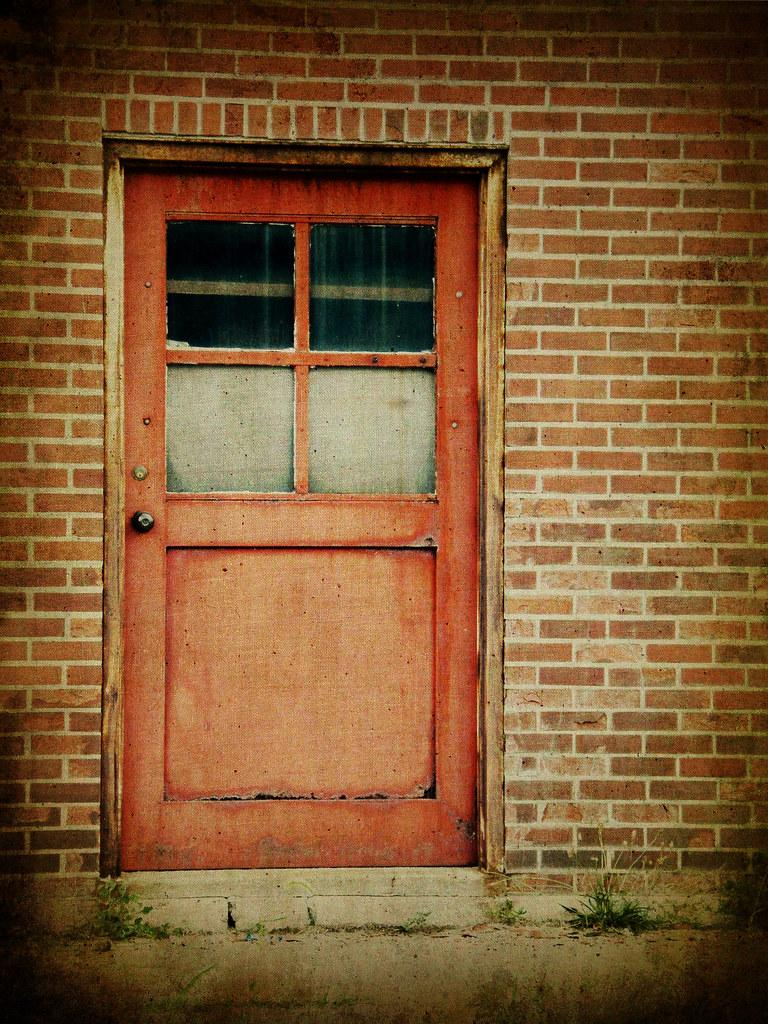door: (112, 144, 487, 872)
